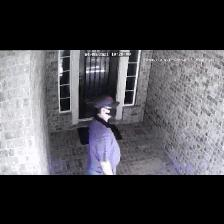person: (87, 97, 120, 174)
